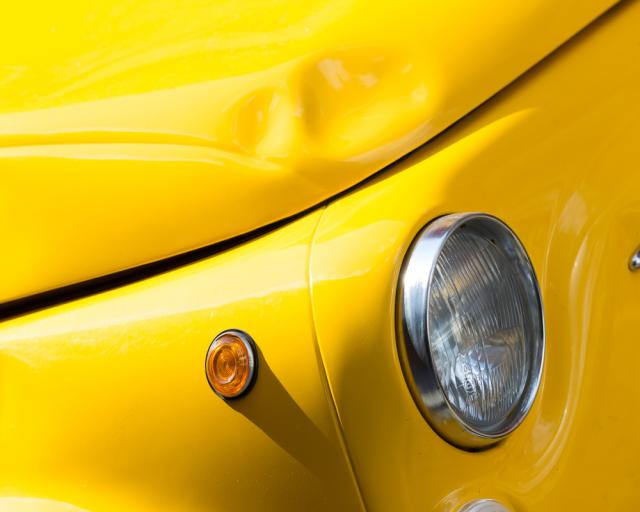dent: (228, 48, 440, 183)
